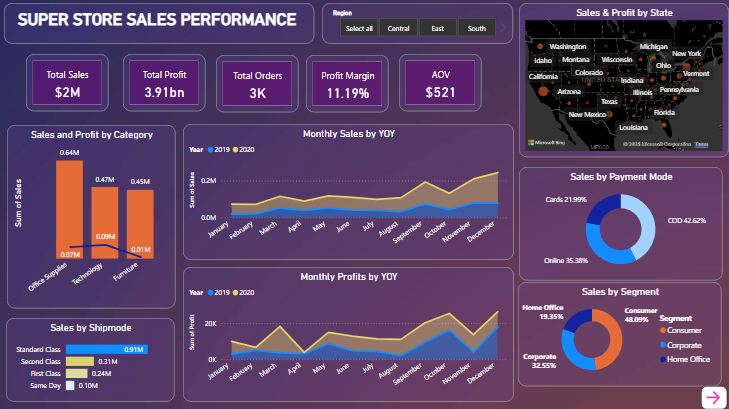

The page's visual inventory and layout, read from the dashboard file:
{"tool":"powerbi","page":{"name":"Sales Performance Overview","canvas":[1280,720],"ordinal":0},"visuals":[{"type":"lineStackedColumnComboChart","title":"Sales and Profit by Category","fields":{"Category":["SuperStore_Sales_Dataset.Category"],"Y":["Sum(SuperStore_Sales_Dataset.Sales)"],"Y2":["Sum(SuperStore_Sales_Dataset.Profit)"]},"box":[13.1,222.5,293.8,320],"z":0},{"type":"barChart","title":"Sales by Shipmode","fields":{"Y":["Sum(SuperStore_Sales_Dataset.Sales)"],"Category":["SuperStore_Sales_Dataset.Ship Mode"]},"box":[13.1,559.5,293.9,145.9],"z":2000},{"type":"stackedAreaChart","title":"Monthly Sales by YOY","fields":{"Category":["SuperStore_Sales_Dataset.Order Date.Variation.Date Hierarchy.Month","SuperStore_Sales_Dataset.Order Date.Variation.Date Hierarchy.Day"],"Y":["Sum(SuperStore_Sales_Dataset.Sales)"],"Series":["SuperStore_Sales_Dataset.Order Date.Variation.Date Hierarchy.Year"]},"box":[320,222,576.9,237.3],"z":3000},{"type":"stackedAreaChart","title":" Monthly Profits by YOY","fields":{"Y":["Sum(SuperStore_Sales_Dataset.Profit)"],"Category":["SuperStore_Sales_Dataset.Order Date.Variation.Date Hierarchy.Month","SuperStore_Sales_Dataset.Order Date.Variation.Date Hierarchy.Day"],"Series":["SuperStore_Sales_Dataset.Order Date.Variation.Date Hierarchy.Year"]},"box":[320,470.2,576.9,235.1],"z":4000},{"type":"map","title":"Sales & Profit by State","fields":{"Category":["SuperStore_Sales_Dataset.State"],"Size":["Sum(SuperStore_Sales_Dataset.Sales)"]},"box":[906.2,10.8,366.2,269.2],"z":5000},{"type":"donutChart","title":"Sales by Payment Mode","fields":{"Y":["Sum(SuperStore_Sales_Dataset.Sales)"],"Category":["SuperStore_Sales_Dataset.Payment Mode"]},"box":[906.2,296.9,355.4,198.5],"z":6000},{"type":"donutChart","title":"Sales by Segment","fields":{"Y":["Sum(SuperStore_Sales_Dataset.Sales)"],"Category":["SuperStore_Sales_Dataset.Segment"]},"box":[905.4,496.4,355.4,182.1],"z":7000},{"type":"textbox","box":[8.9,10.7,541.1,71.4],"z":8000},{"type":"slicer","fields":{"Values":["SuperStore_Sales_Dataset.Region"]},"box":[563.3,10.5,333.1,71.5],"z":9000},{"type":"cardVisual","fields":{"Data":["SuperStore_Sales_Dataset.Sum of Sales"]},"box":[47.9,100.1,143.7,100.1],"z":10000},{"type":"cardVisual","fields":{"Data":["SuperStore_Sales_Dataset.Total Profit 2"]},"box":[215.5,100.1,143.7,100.1],"z":11000},{"type":"actionButton","box":[1225,678.6,46.4,41.1],"z":12000},{"type":"cardVisual","fields":{"Data":["SuperStore_Sales_Dataset.Total Orders"]},"box":[378.2,100.4,144,100.4],"z":13000},{"type":"cardVisual","fields":{"Data":["SuperStore_Sales_Dataset.Profit Margin"]},"box":[535.3,100.4,144,100.4],"z":14000},{"type":"cardVisual","fields":{"Data":["SuperStore_Sales_Dataset.AOV"]},"box":[696.7,98.9,144,100.4],"z":15000}]}

Visuals, with their boxes in screenshot pixels (x1, y1, x2, y2), scaled from the page's 1280x720 canvas onto the 729x409 screenshot:
"Sales and Profit by Category" lineStackedColumnComboChart: crop(7, 126, 175, 308)
"Sales by Shipmode" barChart: crop(7, 318, 175, 401)
"Monthly Sales by YOY" stackedAreaChart: crop(182, 126, 511, 261)
" Monthly Profits by YOY" stackedAreaChart: crop(182, 267, 511, 401)
"Sales & Profit by State" map: crop(516, 6, 725, 159)
"Sales by Payment Mode" donutChart: crop(516, 169, 719, 281)
"Sales by Segment" donutChart: crop(516, 282, 718, 385)
textbox: crop(5, 6, 313, 47)
slicer - SuperStore_Sales_Dataset.Region: crop(321, 6, 511, 47)
cardVisual - SuperStore_Sales_Dataset.Sum of Sales: crop(27, 57, 109, 114)
cardVisual - SuperStore_Sales_Dataset.Total Profit 2: crop(123, 57, 205, 114)
actionButton: crop(698, 385, 724, 408)
cardVisual - SuperStore_Sales_Dataset.Total Orders: crop(215, 57, 297, 114)
cardVisual - SuperStore_Sales_Dataset.Profit Margin: crop(305, 57, 387, 114)
cardVisual - SuperStore_Sales_Dataset.AOV: crop(397, 56, 479, 113)
